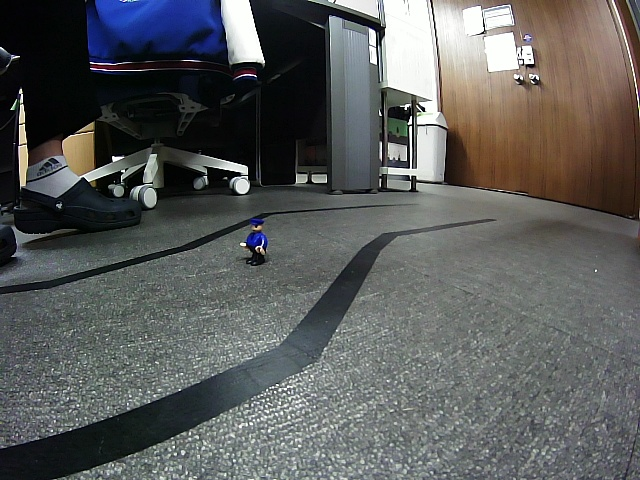person: (240, 219, 267, 267)
